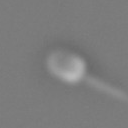normal: (86, 74, 128, 102)
